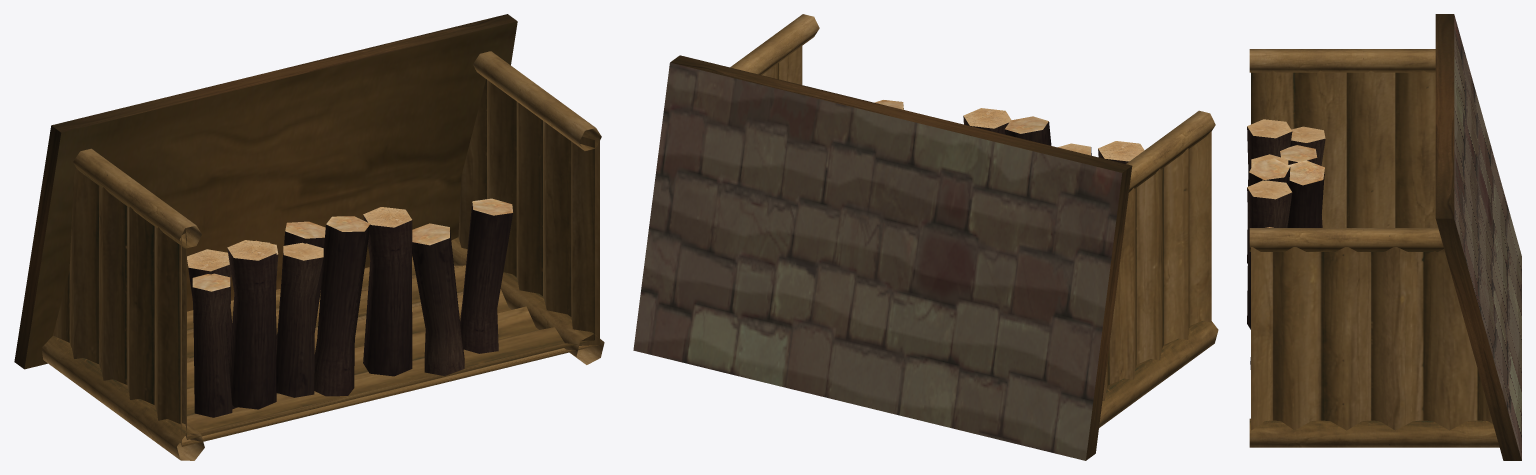
File: Wood_Shelter.fbx
The picture shows the model from 3 angles, left to right: view 1: azimuth 30°, elevation 25°; view 2: azimuth 150°, elevation 25°; view 3: azimuth 270°, elevation 25°; orthographic projection. The views are drawn at different scales.
Visible parts, largest first — view 1: Wood_Shelter; view 2: Wood_Shelter; view 3: Wood_Shelter.
Part boxes in pixels (left/top/right/bottom): Wood_Shelter: left=14, top=14, right=604, bottom=460; Wood_Shelter: left=633, top=14, right=1218, bottom=460; Wood_Shelter: left=1247, top=14, right=1521, bottom=460.
Size of the model in its own units: 47.42 by 26.17 by 26.91.
